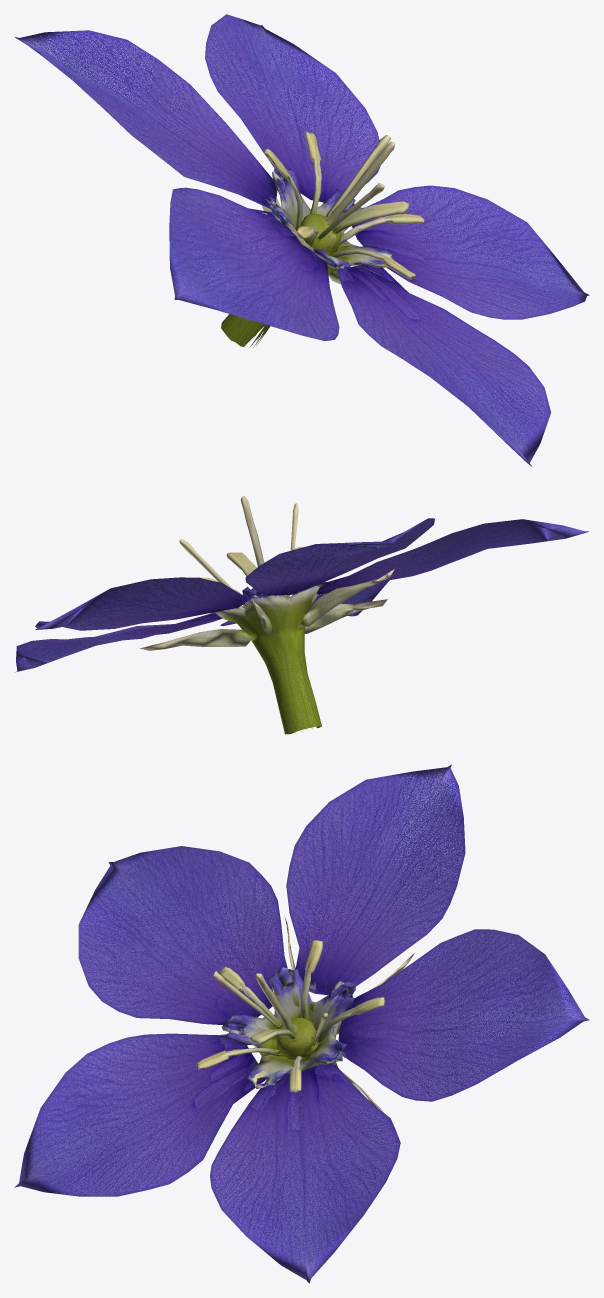
Rendered from purple.glb.
3 views of the same model, one above another, from view 1: azimuth 30°, elevation 25°; view 2: azimuth 150°, elevation 25°; view 3: azimuth 270°, elevation 25° (orthographic). The views are drawn at different scales.
Parts seen in each view (by area): view 1: tripo_node_001e207a-1e74-4adb-9097-c4953a62f0a6; view 2: tripo_node_001e207a-1e74-4adb-9097-c4953a62f0a6; view 3: tripo_node_001e207a-1e74-4adb-9097-c4953a62f0a6.
Boxes of the visible parts, bbox=[...] form: tripo_node_001e207a-1e74-4adb-9097-c4953a62f0a6: bbox=[15, 14, 589, 466]; tripo_node_001e207a-1e74-4adb-9097-c4953a62f0a6: bbox=[15, 496, 588, 734]; tripo_node_001e207a-1e74-4adb-9097-c4953a62f0a6: bbox=[14, 764, 589, 1283].
Size of the model in its own units: 0.6543 by 0.3867 by 0.6777.
Materials: 1 (1 with a texture image).
